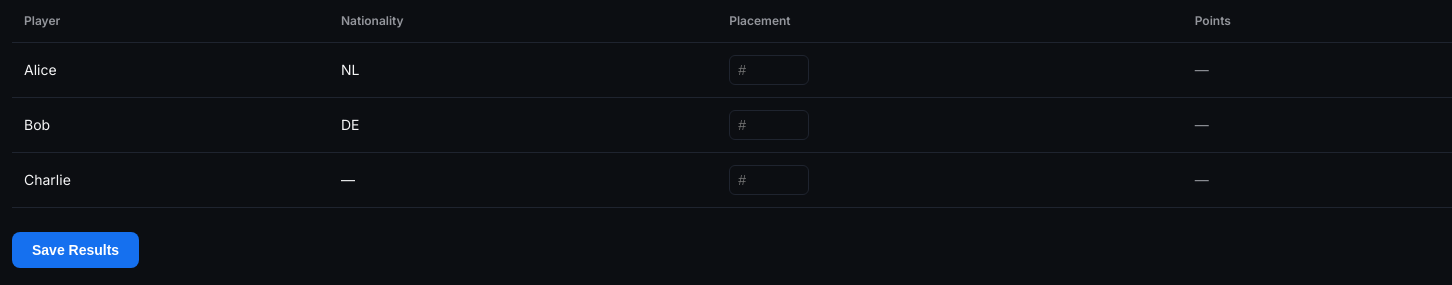
Scenario: ResultsEntryForm › shows auto-calculated points when placement is entered
The image size is (1452, 285).
In the number field named "Placement for Alice": (769,70) [729, 55, 809, 85], type "1"
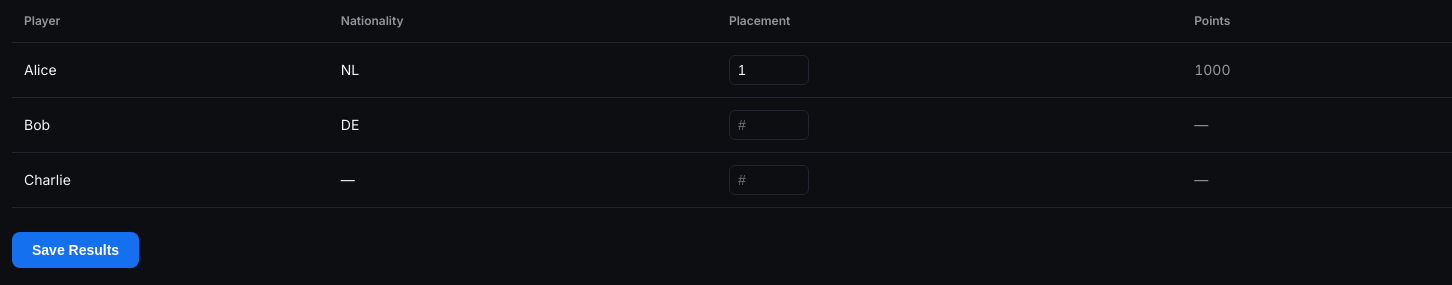
Expected: the text "1000" is shown, [1182, 43, 1451, 98]
